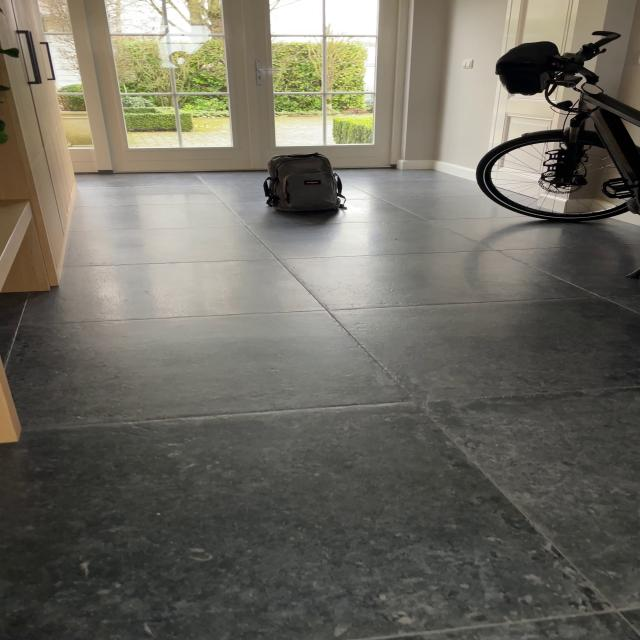backpack: (257, 149, 345, 215)
